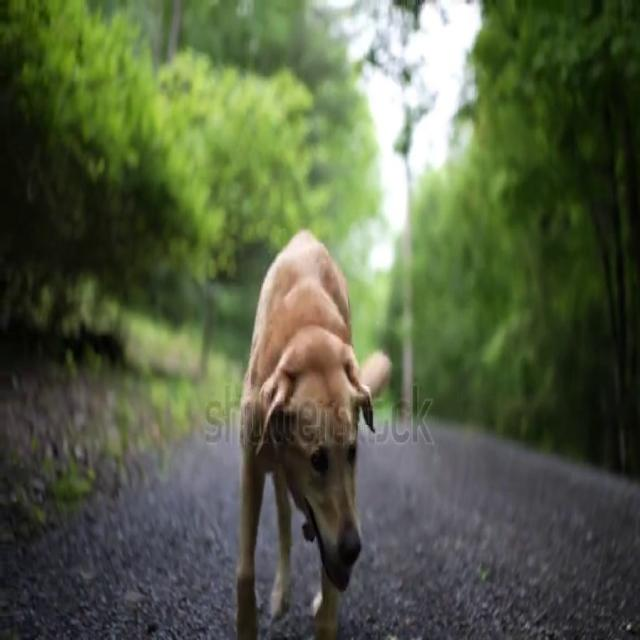normal_animals: (230, 225, 381, 636)
